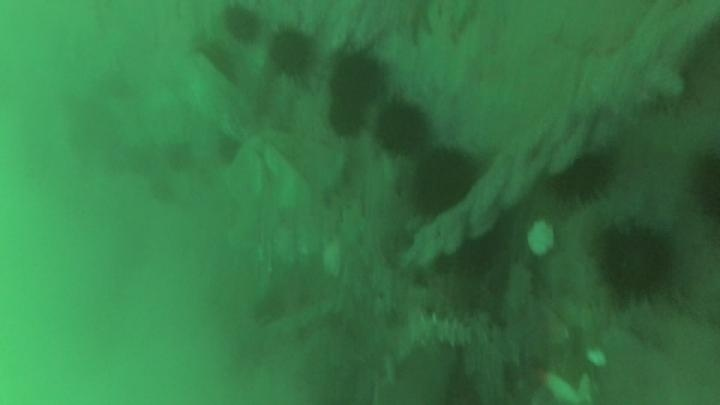echinus: (593, 220, 678, 304), (408, 146, 480, 218), (549, 149, 616, 205), (328, 49, 389, 107), (373, 100, 431, 156), (267, 27, 317, 78), (687, 145, 720, 221), (196, 40, 241, 86), (220, 3, 265, 45), (325, 97, 367, 139), (213, 133, 245, 168)
holothurian: (392, 311, 476, 355)
